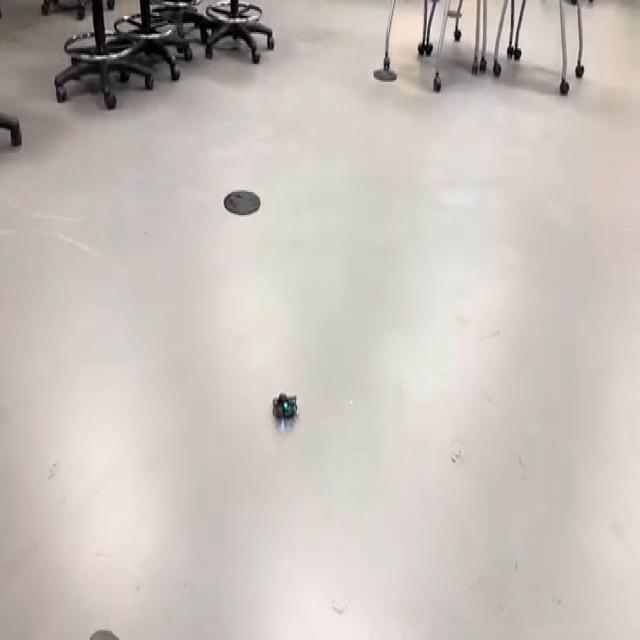drone: (263, 380, 305, 435)
